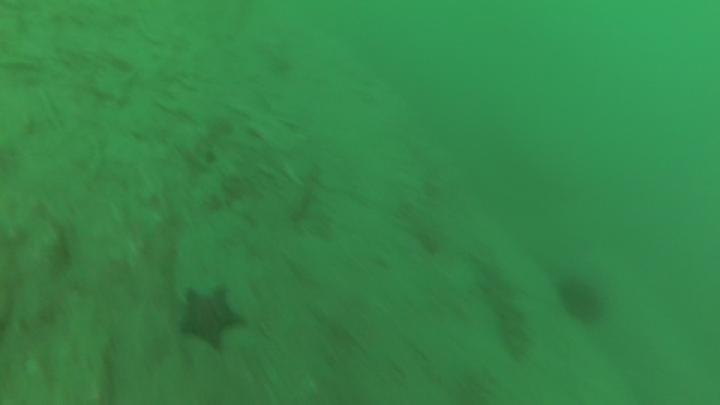echinus: (554, 273, 608, 327)
starfish: (175, 283, 246, 354)
